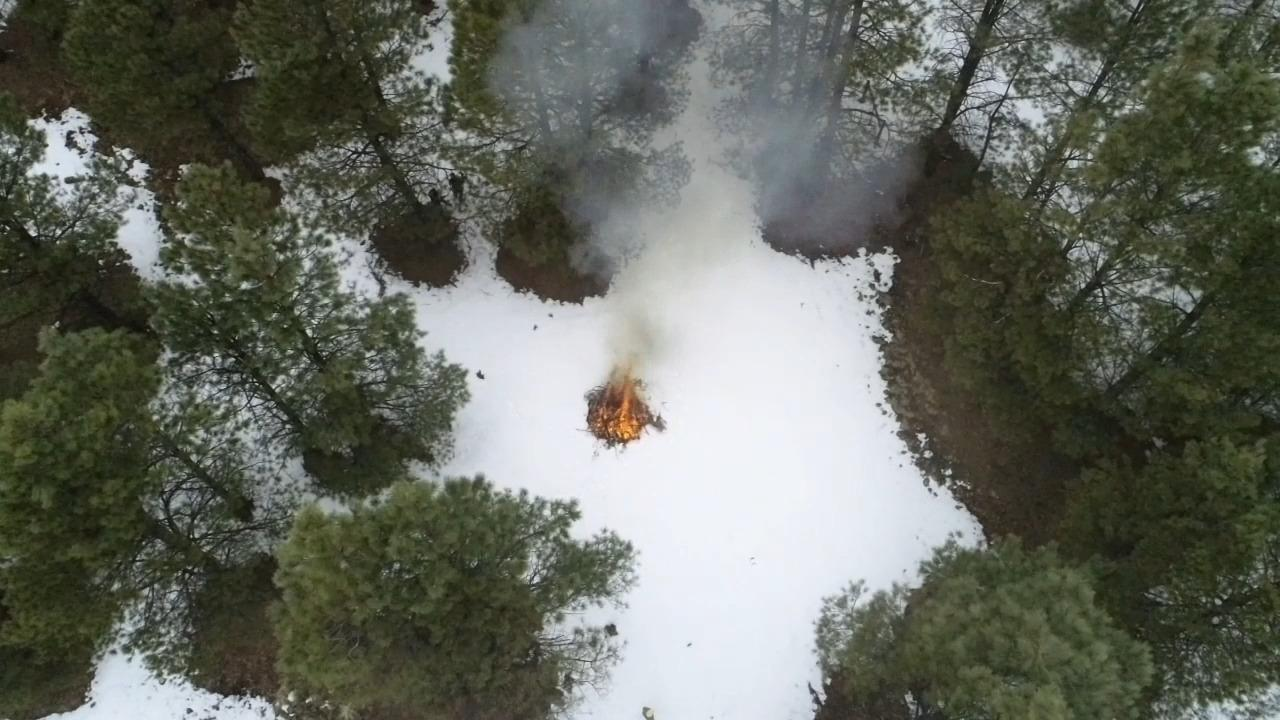fire: (584, 356, 662, 450)
smoke: (472, 0, 691, 130), (753, 91, 893, 257)
